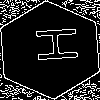H: (25, 25, 79, 65)
